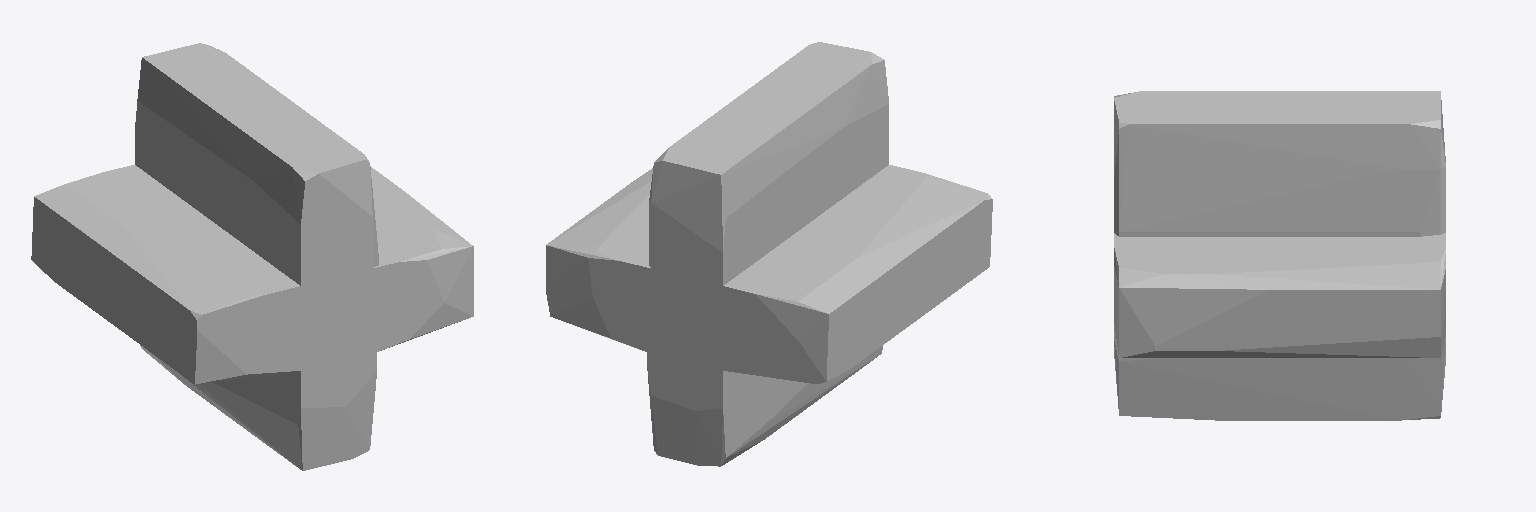
Rendered from cross_decimated.obj.
The picture shows the model from 3 angles: view 1: azimuth 30°, elevation 25°; view 2: azimuth 150°, elevation 25°; view 3: azimuth 270°, elevation 25°; orthographic projection.
Visible parts, largest first — view 1: convex_2, convex_0, convex_1; view 2: convex_2, convex_0, convex_1; view 3: convex_0, convex_2, convex_1.
Part boxes in pixels (left/top/right/bottom): convex_2: left=31, top=165, right=473, bottom=384; convex_0: left=135, top=43, right=378, bottom=285; convex_1: left=140, top=345, right=376, bottom=470; convex_2: left=546, top=165, right=992, bottom=383; convex_0: left=649, top=42, right=888, bottom=285; convex_1: left=647, top=346, right=882, bottom=466; convex_0: left=1114, top=91, right=1445, bottom=236; convex_2: left=1114, top=233, right=1445, bottom=357; convex_1: left=1114, top=333, right=1445, bottom=420.
Bounding box in the file's own units: 25.22 × 25.22 × 25.62.